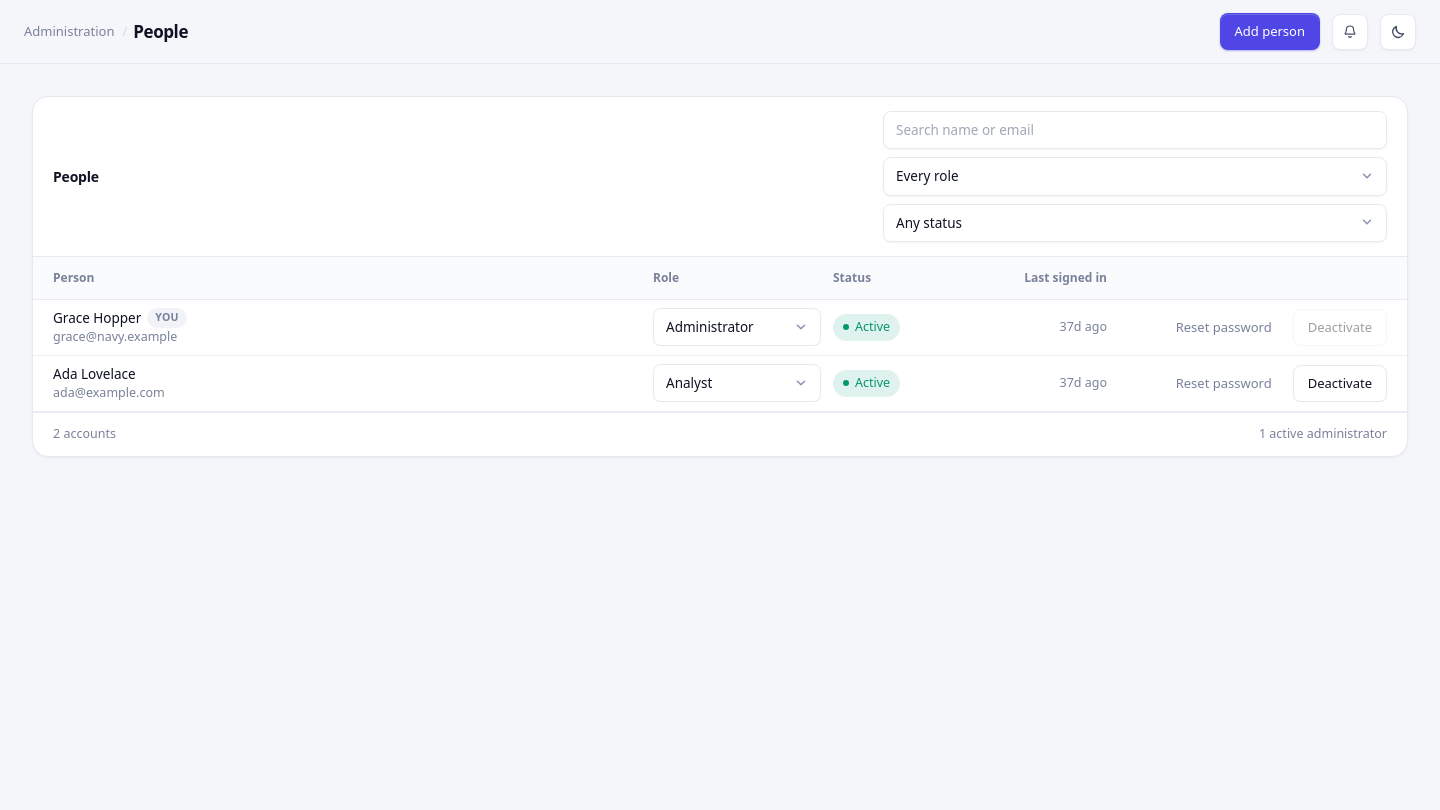
the account list › offers a way out of a filter that matches nothing
The image size is (1440, 810).
Expected: the text "Ada Lovelace" is shown, [53,364,136,384]
In the search field named "Search people": x=1135, y=130 [883,111,1387,149], type "nobody"
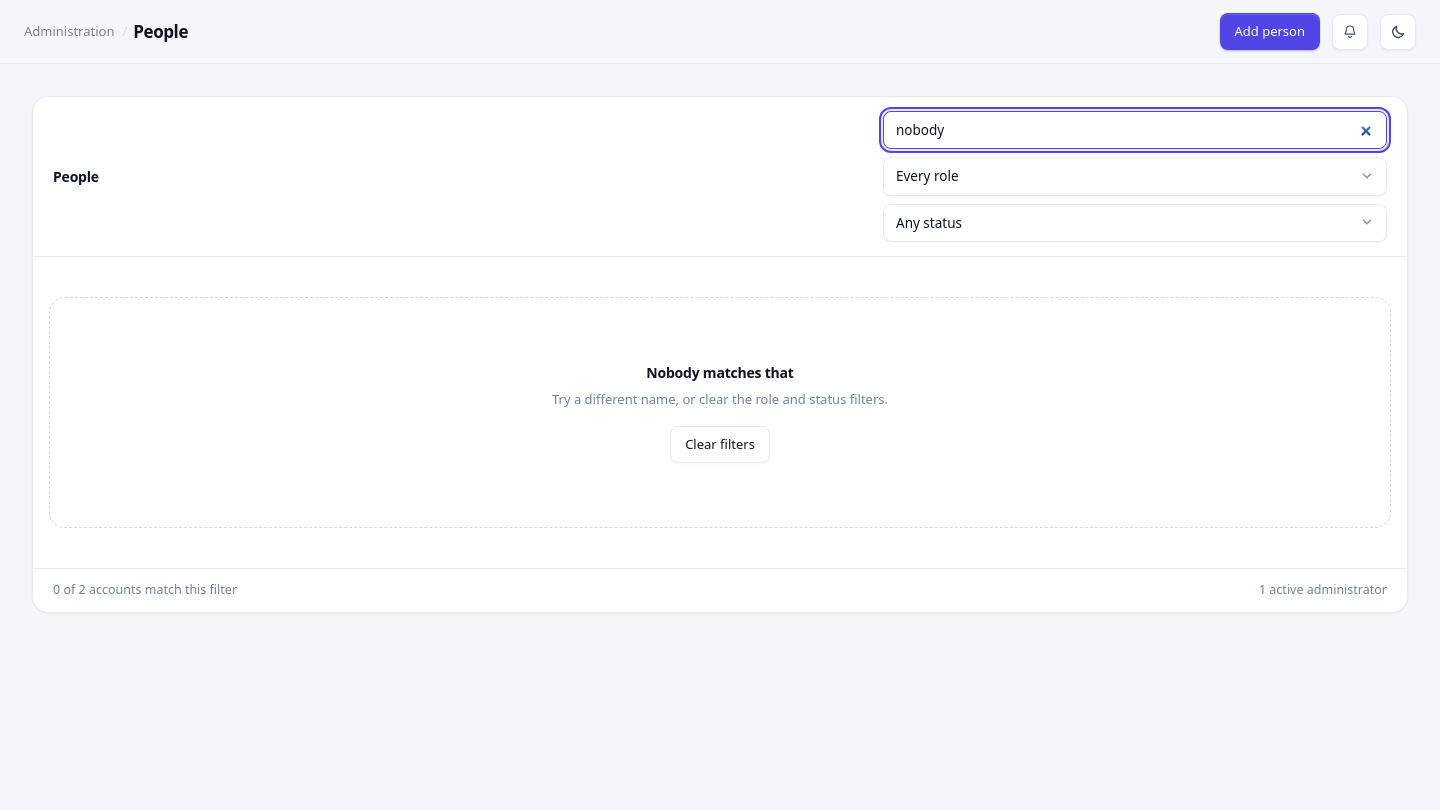
Now the text "Nobody matches that" is shown, box [646,362,794,383]
Click the button "Clear filters": x=720, y=445 [670,426,770,463]
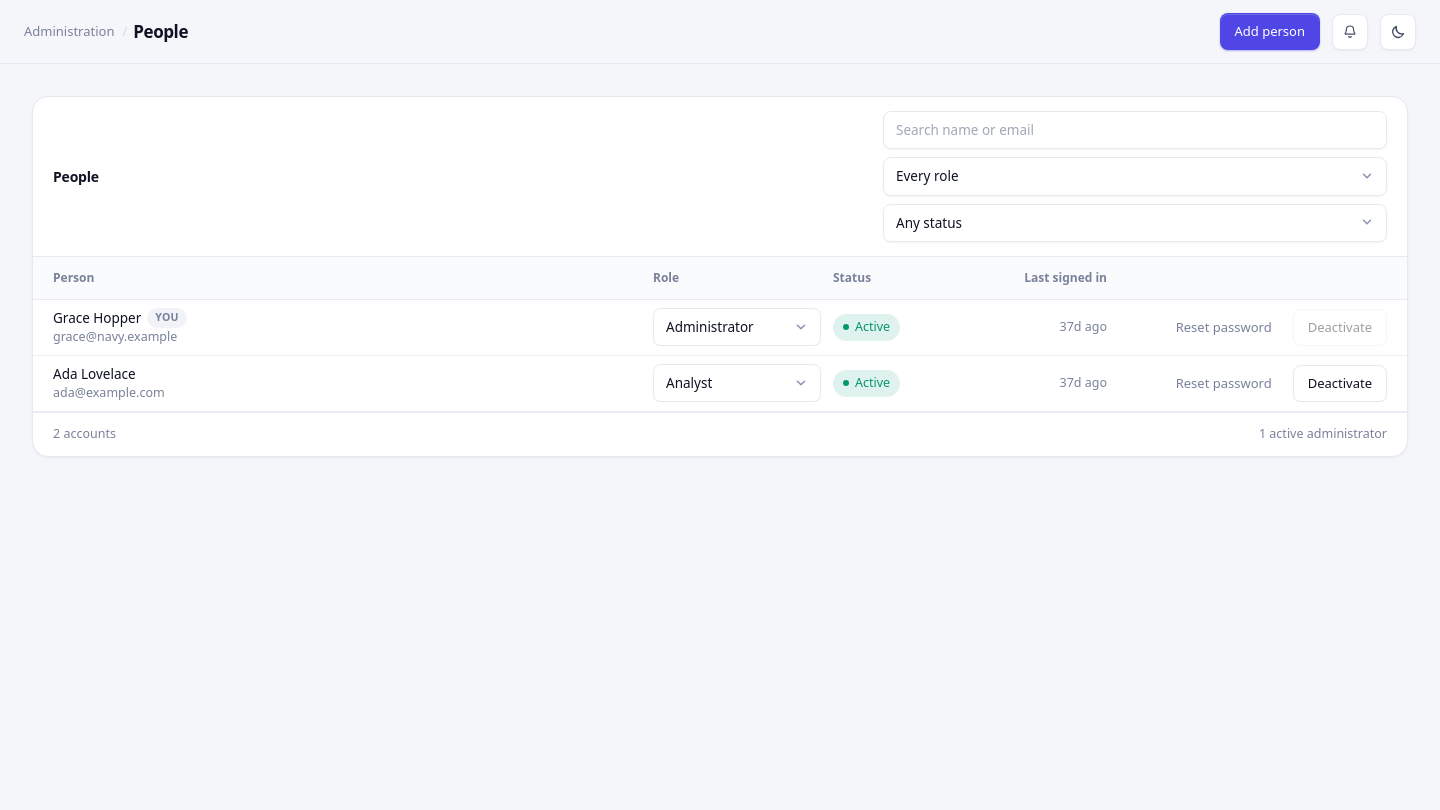
Now the text "Ada Lovelace" is shown, box [53,364,136,384]
